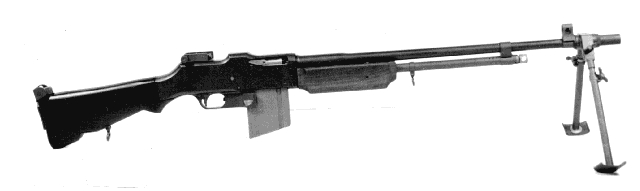rifle: (27, 19, 624, 177)
